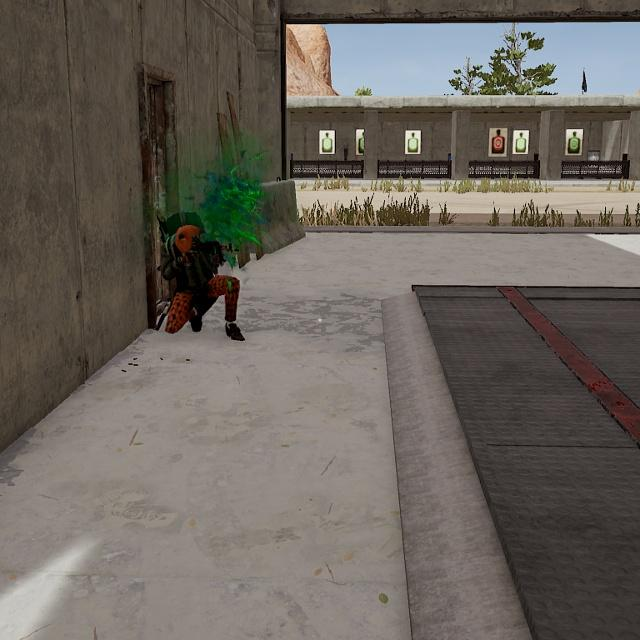head: (170, 220, 209, 260)
people: (156, 212, 250, 348)
